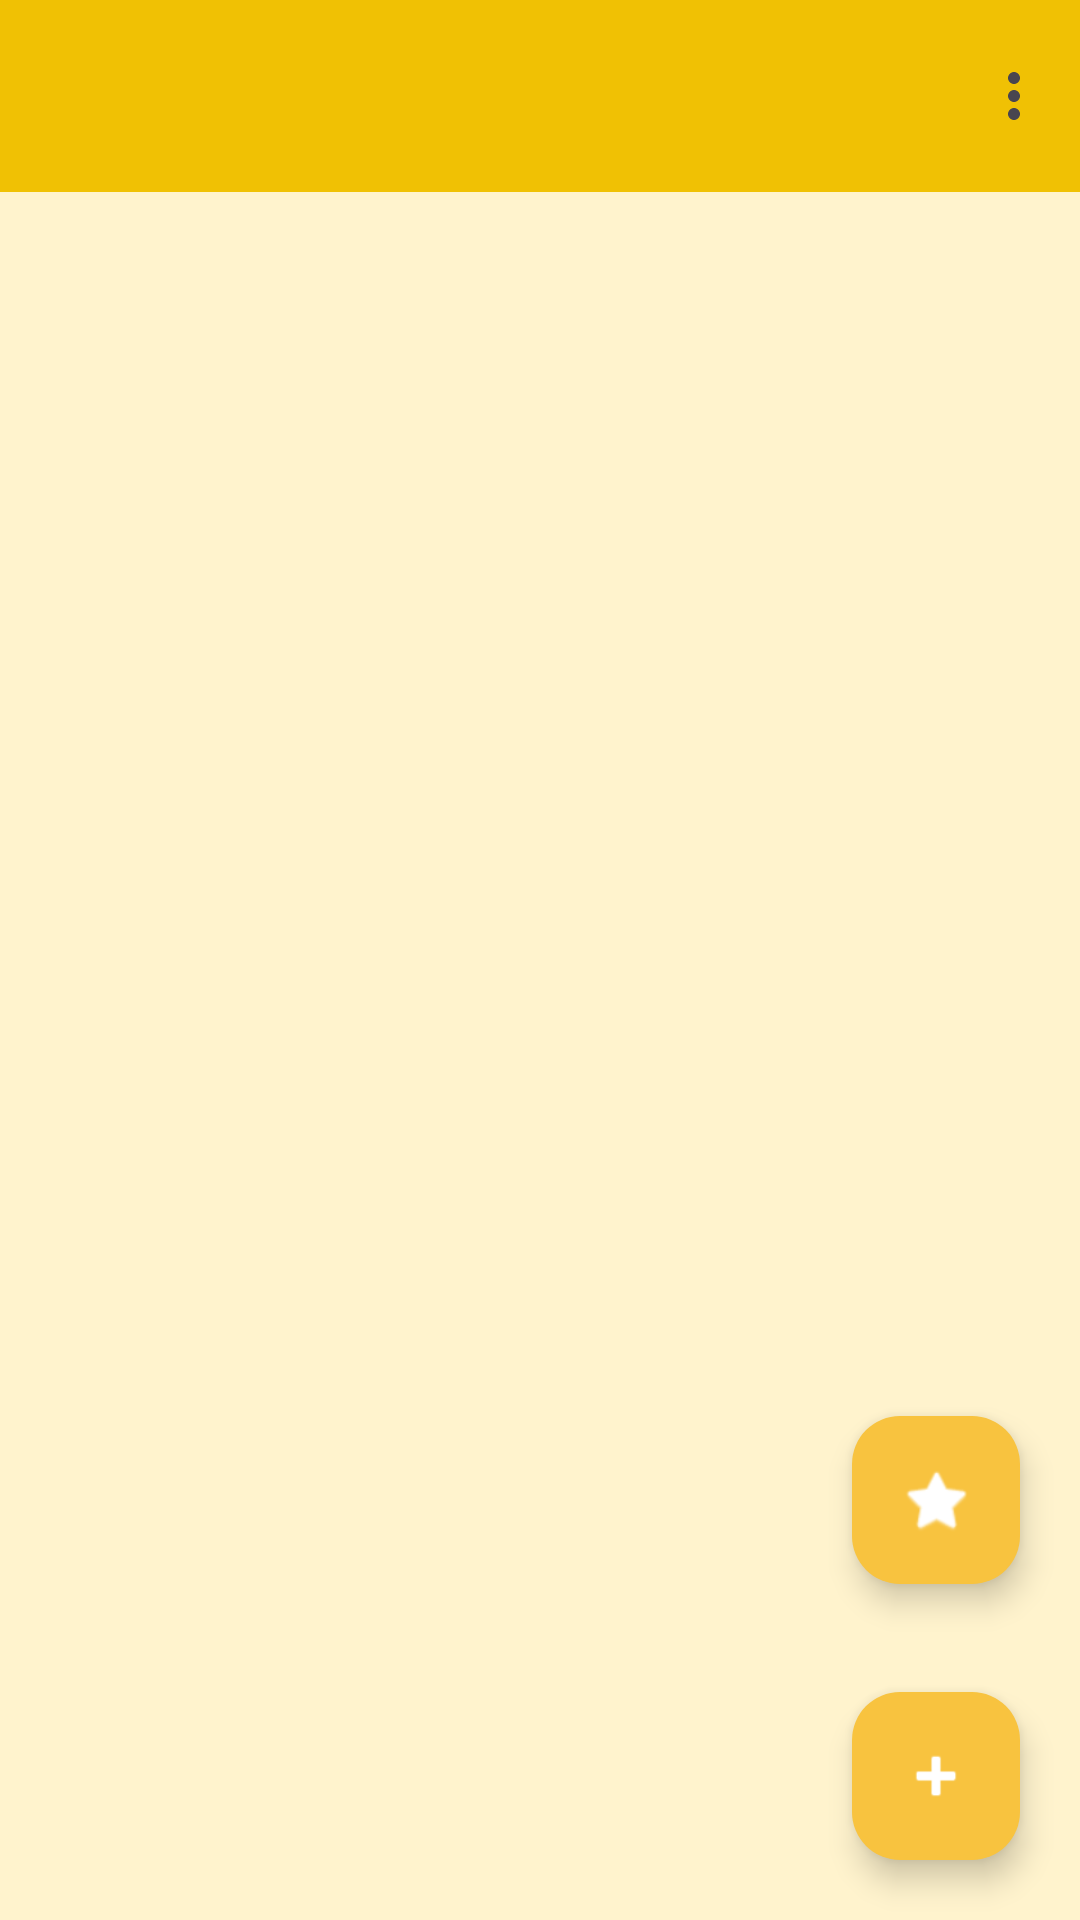

Screen size 1080x1920. Icon name, then its box in pixels as (x1, y1, x2, y2):
Add Note: (852, 1692, 1020, 1860)
